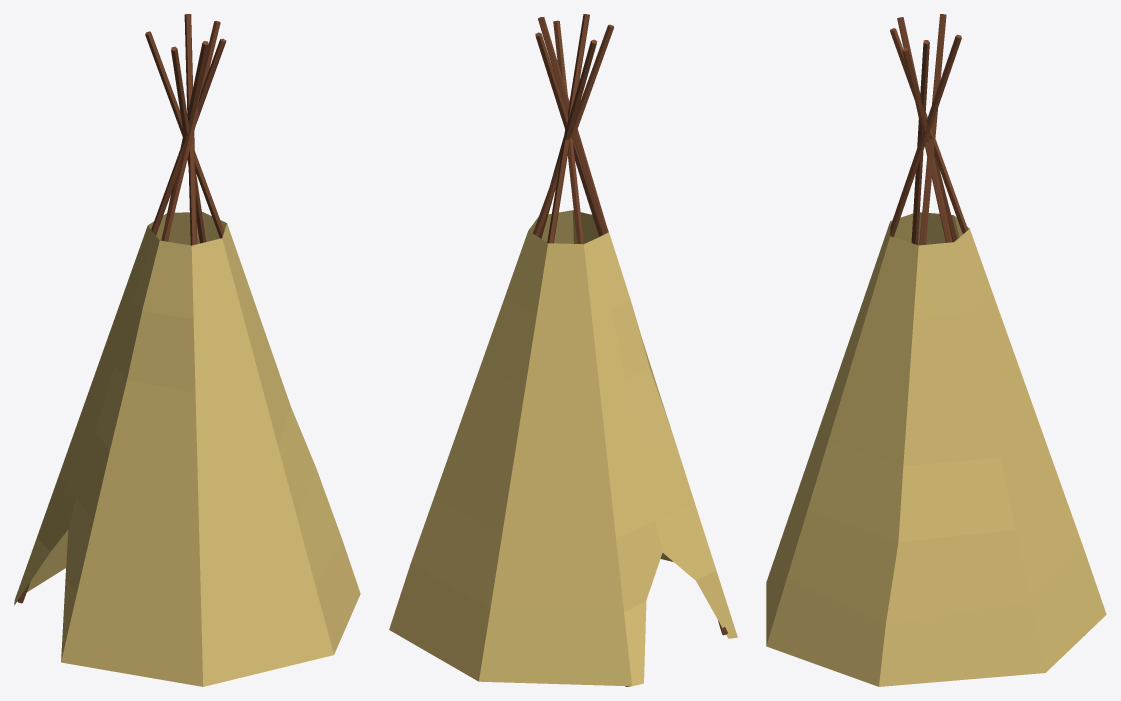
Rendered from tent2.glb.
3 views of the same model, side by side, from view 1: azimuth 30°, elevation 25°; view 2: azimuth 150°, elevation 25°; view 3: azimuth 270°, elevation 25° (orthographic).
Parts seen in each view (by area): view 1: Конус, Конус.002; view 2: Конус, Конус.002; view 3: Конус, Конус.002.
Boxes of the visible parts, left/top/right/bottom form: Конус: left=14, top=212, right=360, bottom=686; Конус.002: left=17, top=14, right=226, bottom=603; Конус: left=389, top=210, right=737, bottom=686; Конус.002: left=533, top=14, right=727, bottom=686; Конус: left=766, top=212, right=1106, bottom=686; Конус.002: left=890, top=14, right=967, bottom=245.
Size of the model in its own units: 2.01 by 3.82 by 2.
